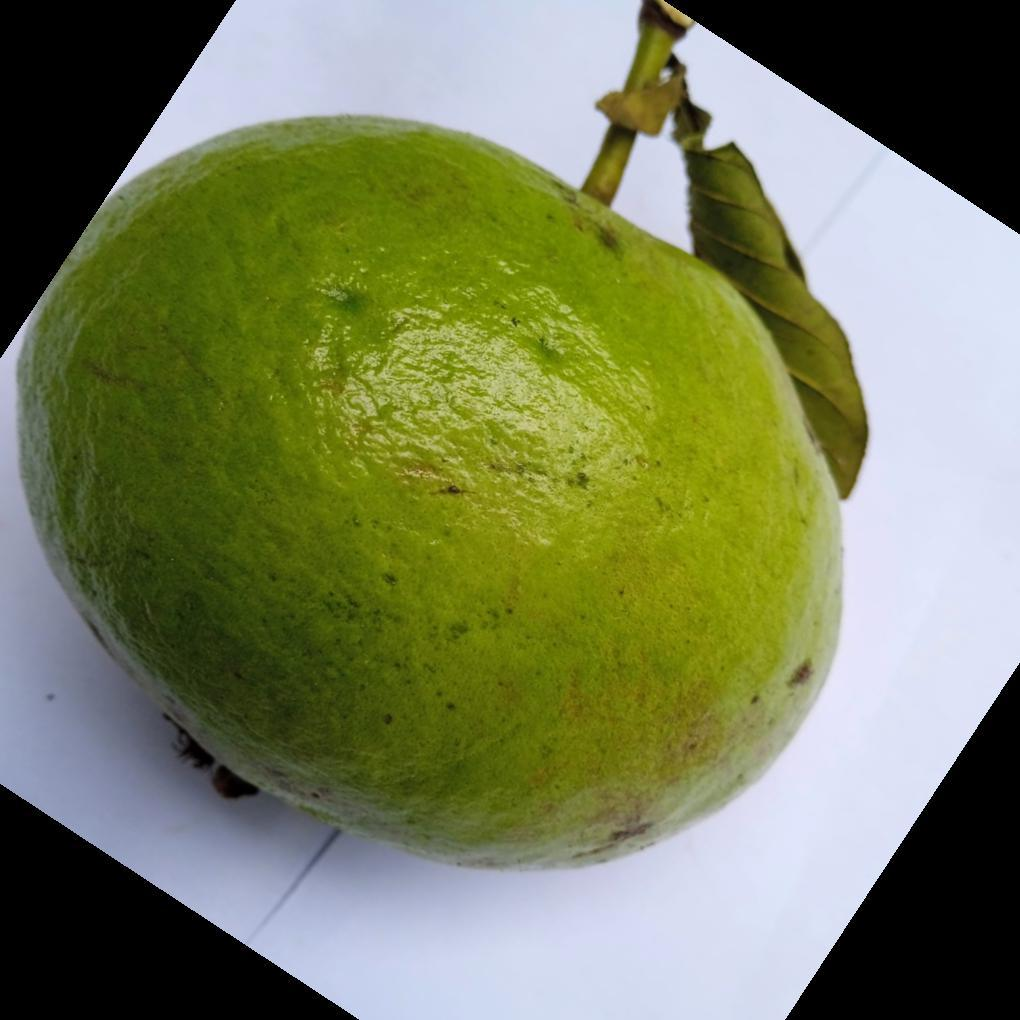FreshGuava: (9, 97, 869, 875)
